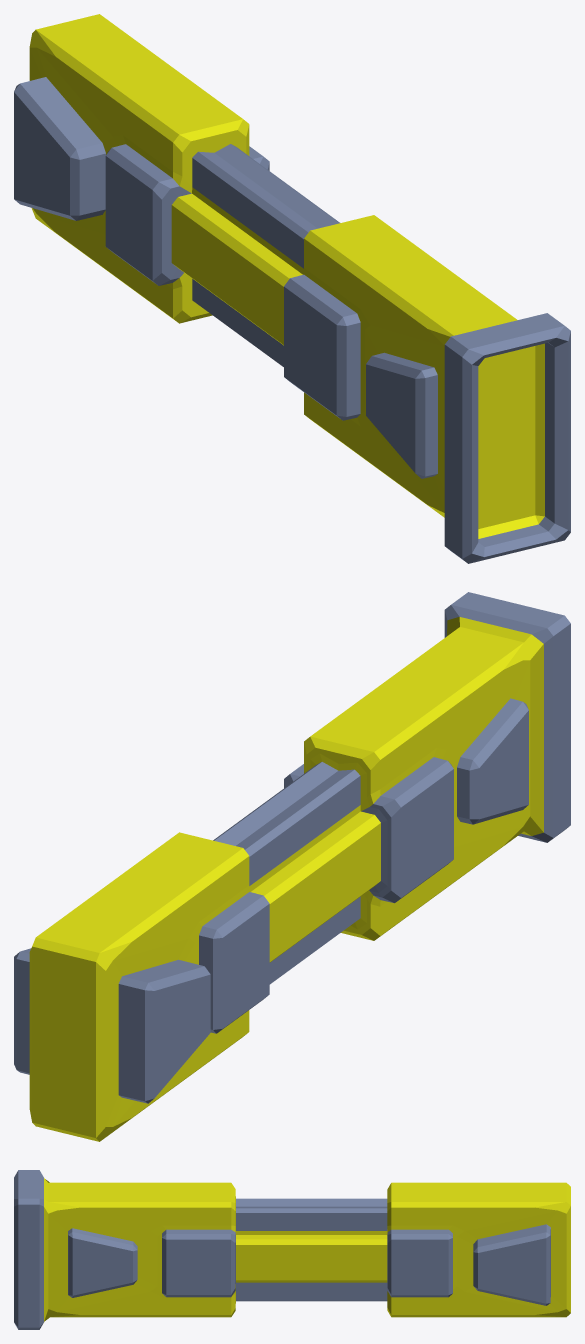
File: turret-gun.glb
The picture shows the model from 3 angles, top to bottom: view 1: azimuth 30°, elevation 25°; view 2: azimuth 150°, elevation 25°; view 3: azimuth 270°, elevation 25°; orthographic projection. The views are drawn at different scales.
Visible parts, largest first — view 1: Cube.001; view 2: Cube.001; view 3: Cube.001.
Boxes of the visible parts, x1,y1,x2,y2 form: Cube.001: [14, 14, 570, 563]; Cube.001: [14, 592, 570, 1141]; Cube.001: [14, 1170, 570, 1329].
Size of the model in its own units: 0.6072 by 0.886 by 3.41.
